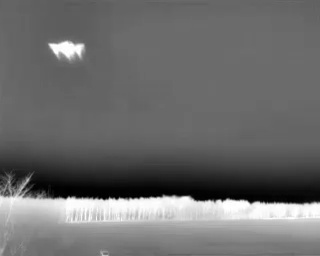DRONE: (40, 33, 91, 68)
